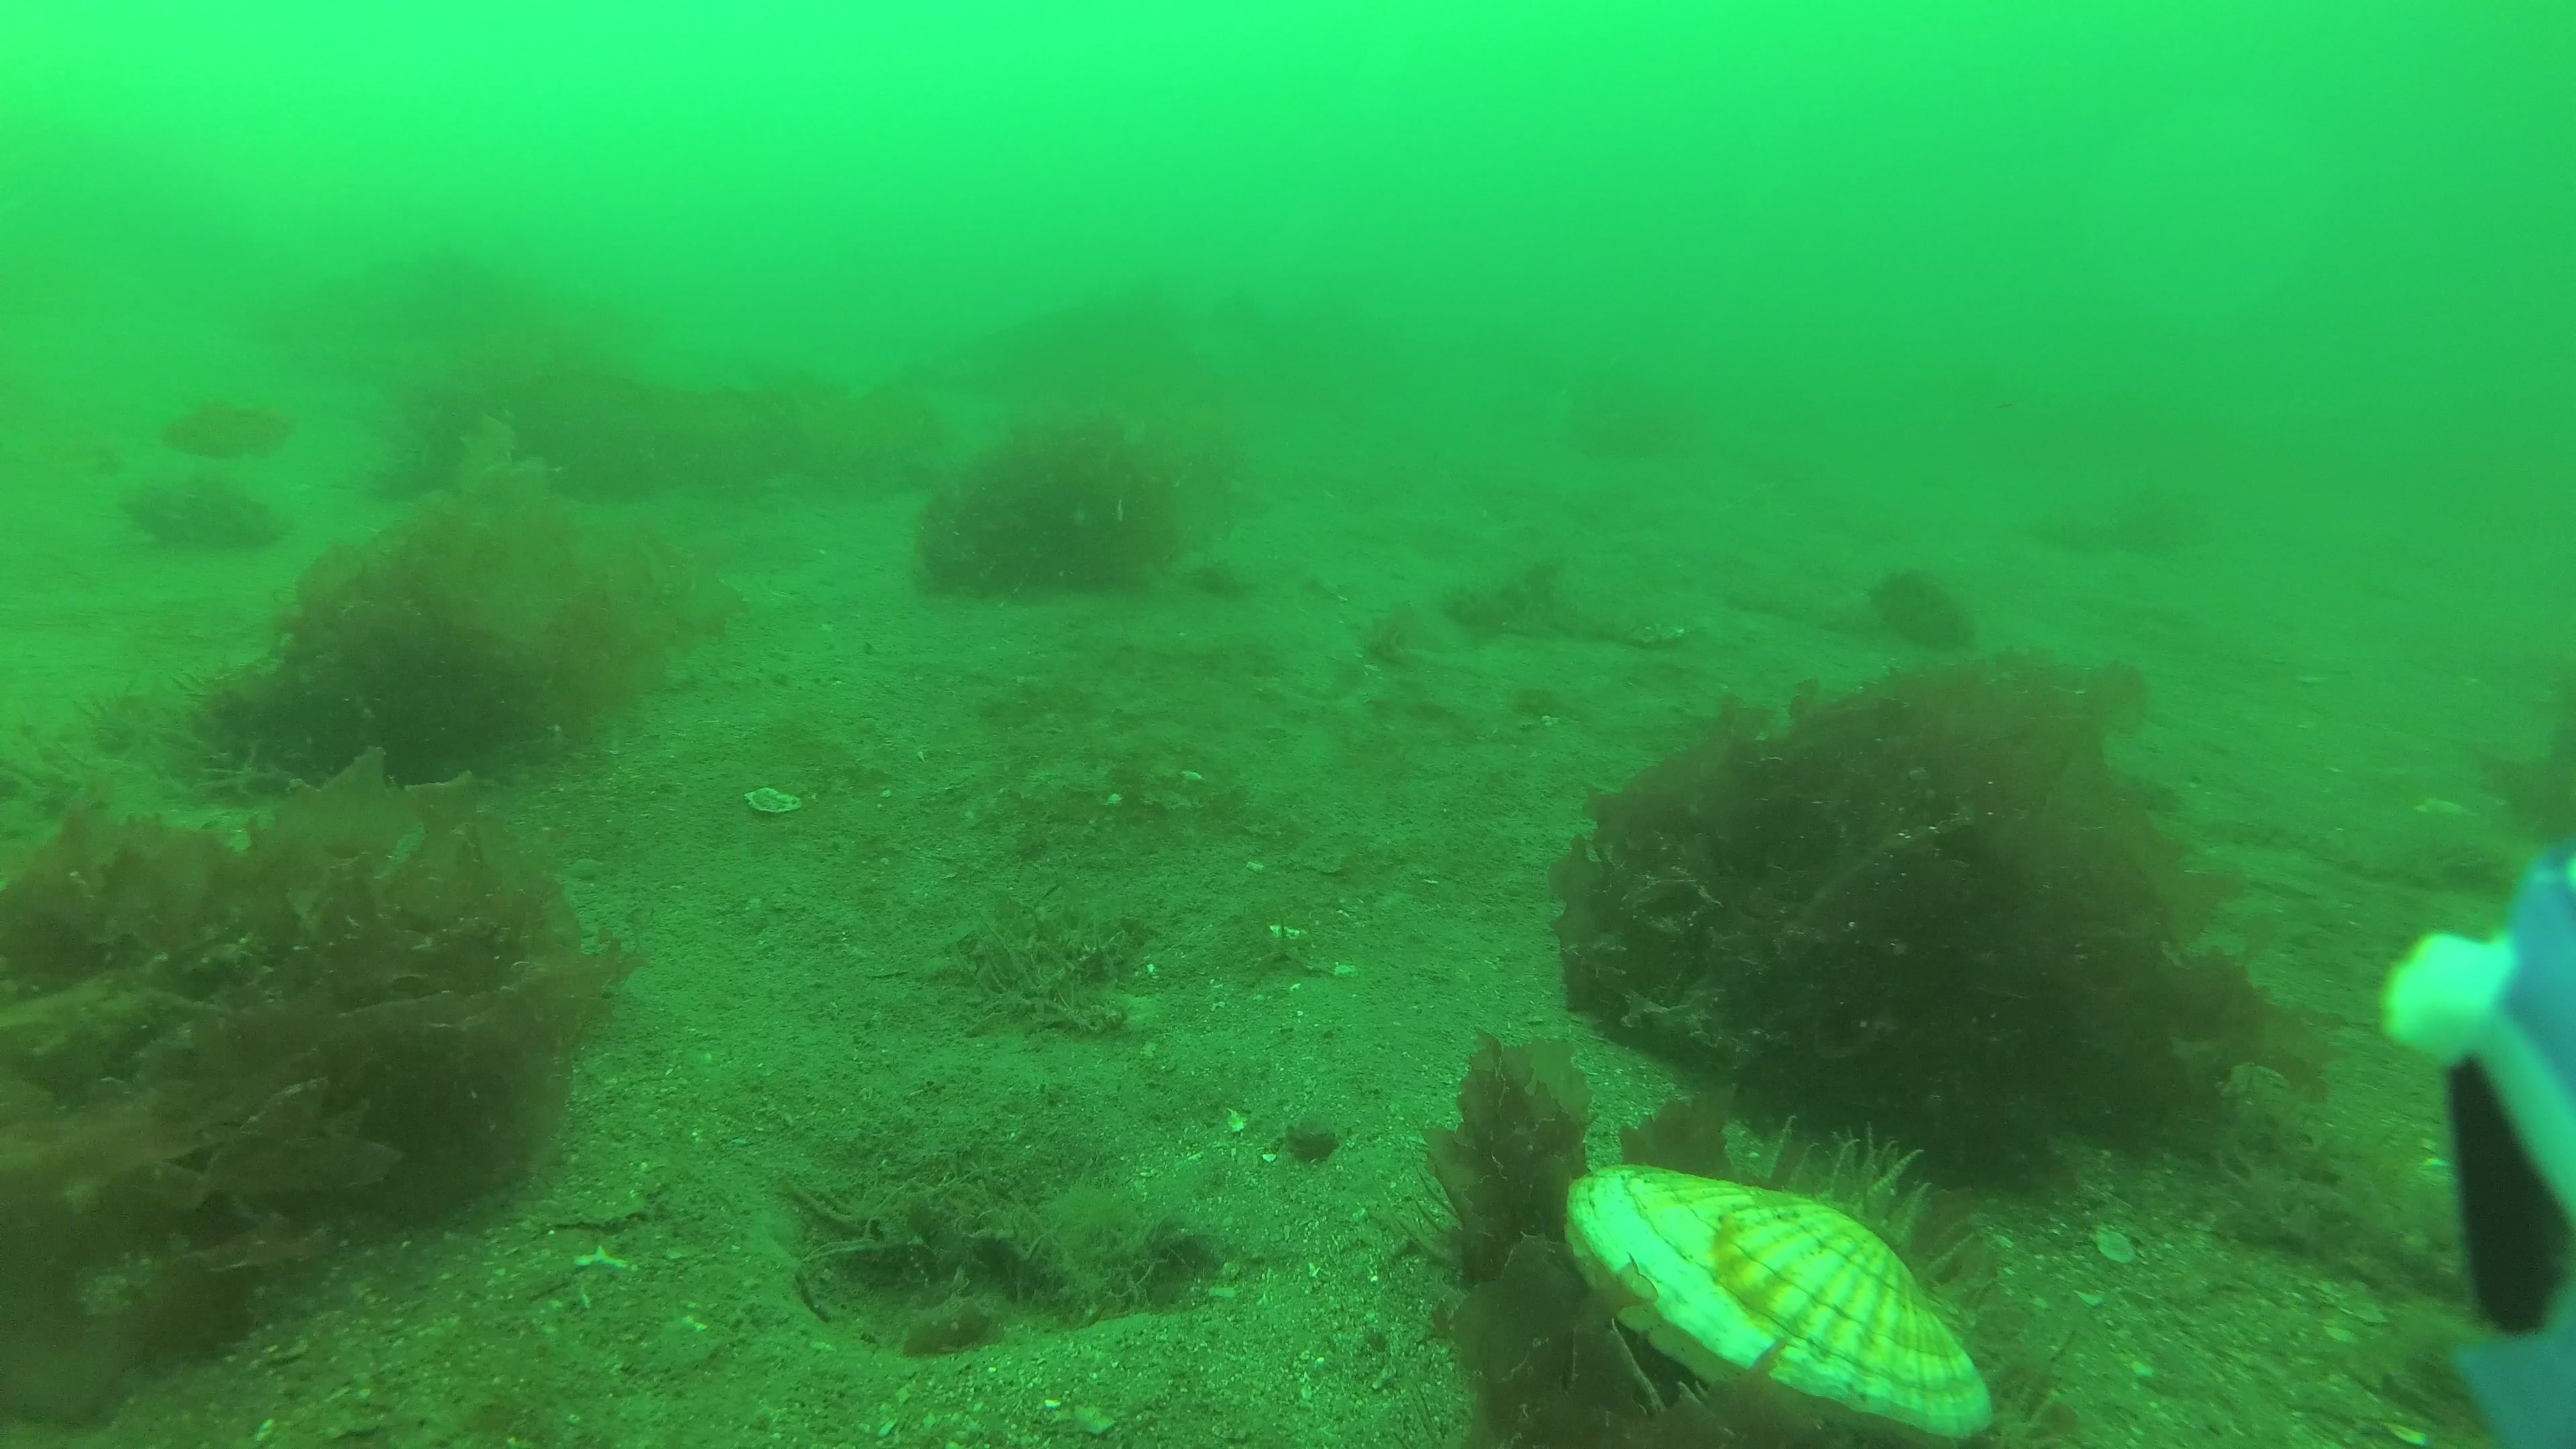scallop: (1568, 1161, 1994, 1449)
